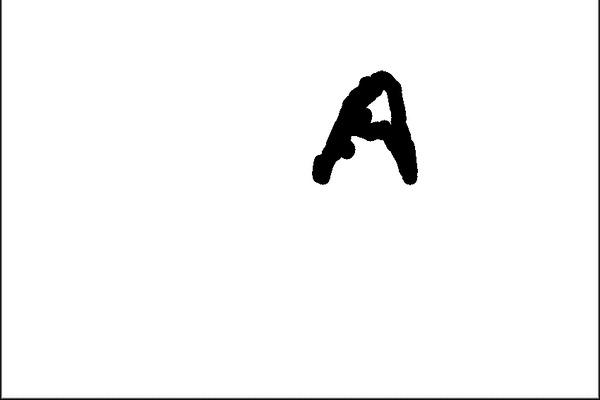A: (302, 59, 427, 198)
